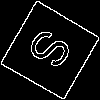S: (25, 25, 83, 78)
